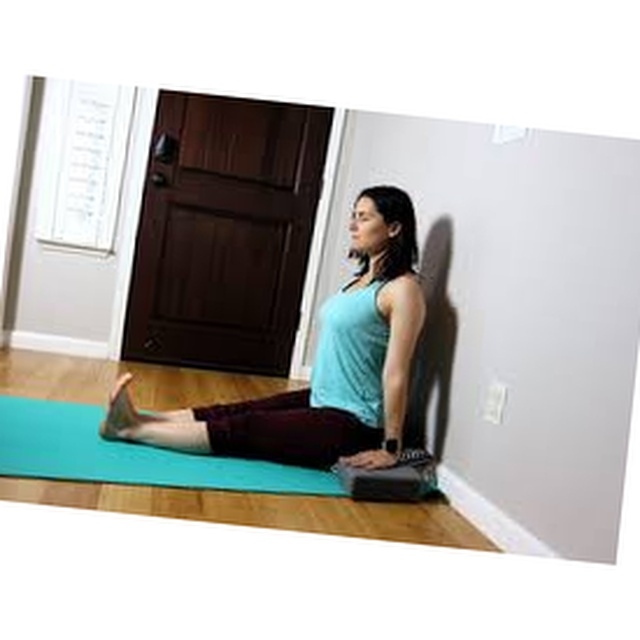Staff_Pose: (100, 187, 427, 471)
